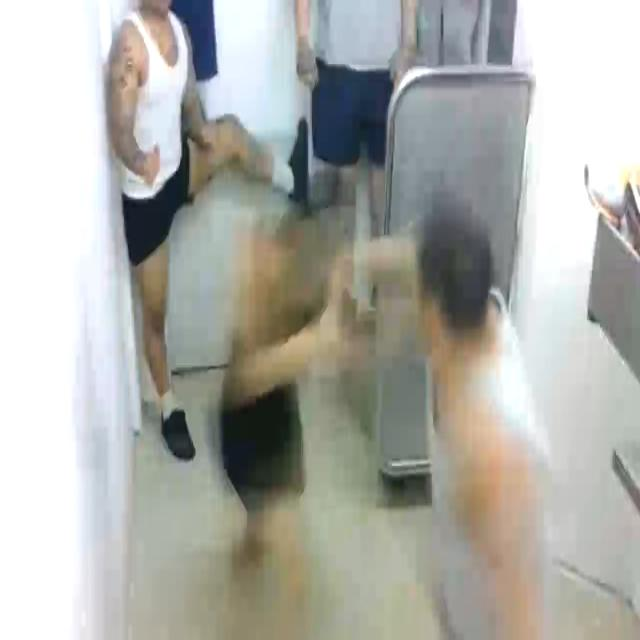fight: (218, 194, 554, 640)
